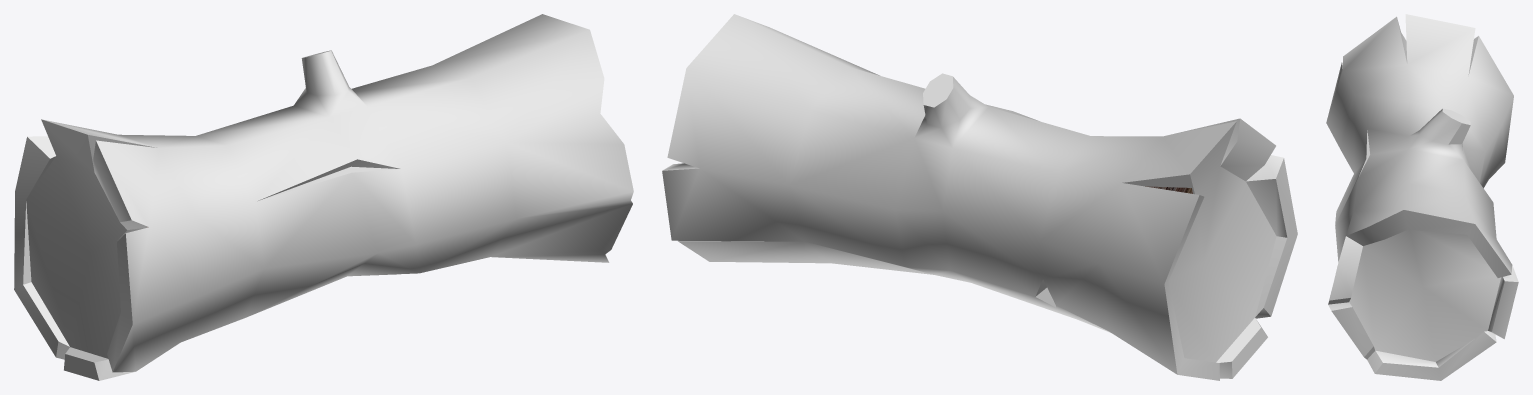
File: FBX_BrokenTree.fbx
3 views of the same model, side by side, from view 1: azimuth 30°, elevation 25°; view 2: azimuth 150°, elevation 25°; view 3: azimuth 270°, elevation 25° (orthographic). The views are drawn at different scales.
Visible parts, largest first — view 1: BrokenTree; view 2: BrokenTree; view 3: BrokenTree.
Part boxes in pixels (box(x1,y1,x2,y2)): BrokenTree: box(14, 14, 633, 380); BrokenTree: box(662, 14, 1297, 380); BrokenTree: box(1326, 14, 1518, 380).
Bounding box in the file's own units: 509 × 232 × 220.
